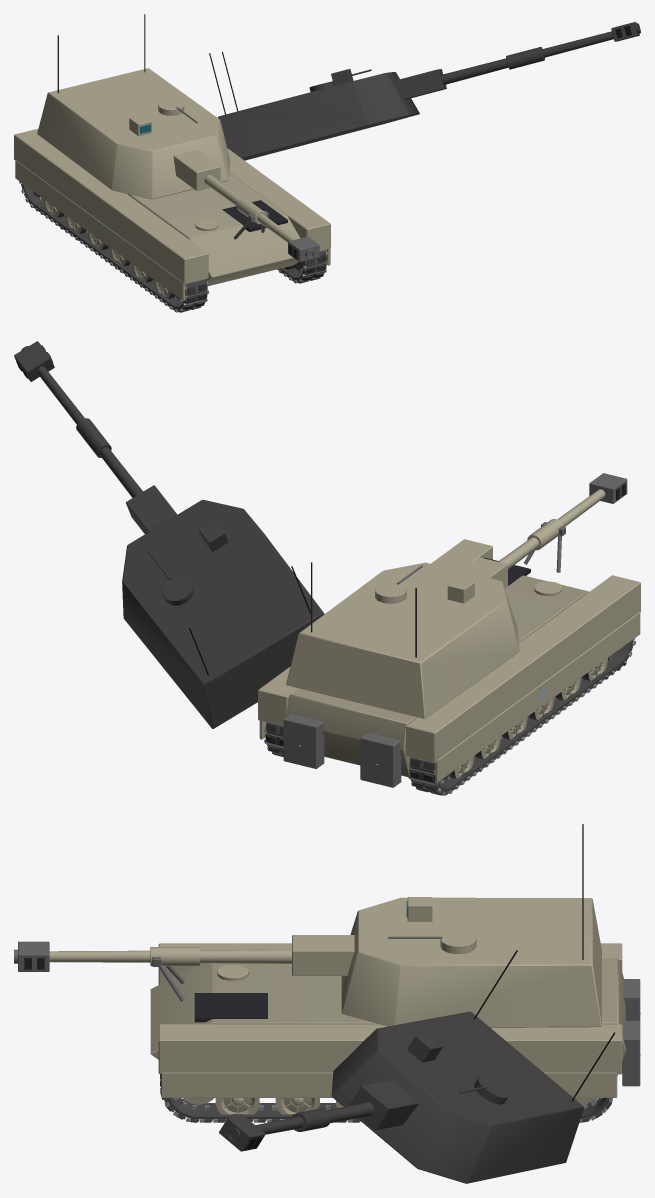
The model's file is artillery__raad_2.glb.
3 views of the same model, one above another, from view 1: azimuth 30°, elevation 25°; view 2: azimuth 150°, elevation 25°; view 3: azimuth 270°, elevation 25° (orthographic). The views are drawn at different scales.
Parts seen in each view (by area): view 1: Hull_Mesh, Turret_Mesh, Wreck, Gun_Mesh, Track_L_Mesh, Track_R_Mesh; view 2: Wreck, Hull_Mesh, Turret_Mesh, Track_L_Mesh, Gun_Mesh; view 3: Hull_Mesh, Wreck, Turret_Mesh, Gun_Mesh, Track_R_Mesh, Wheel_R5_Mesh, Wheel_R4_Mesh.
Boxes of the visible parts, x1=… form: Hull_Mesh: x1=14, y1=129, x2=330, y2=300; Turret_Mesh: x1=37, y1=14, x2=230, y2=199; Wreck: x1=20, y1=22, x2=640, y2=312; Gun_Mesh: x1=173, y1=150, x2=319, y2=262; Track_L_Mesh: x1=19, y1=181, x2=208, y2=312; Track_R_Mesh: x1=277, y1=250, x2=328, y2=283; Wreck: x1=14, y1=341, x2=635, y2=795; Hull_Mesh: x1=258, y1=522, x2=640, y2=787; Turret_Mesh: x1=286, y1=562, x2=519, y2=718; Track_L_Mesh: x1=408, y1=638, x2=635, y2=795; Gun_Mesh: x1=460, y1=473, x2=627, y2=587; Hull_Mesh: x1=150, y1=943, x2=640, y2=1097; Wreck: x1=160, y1=950, x2=615, y2=1183; Turret_Mesh: x1=341, y1=824, x2=601, y2=1027; Gun_Mesh: x1=14, y1=935, x2=354, y2=975; Track_R_Mesh: x1=160, y1=1074, x2=612, y2=1122; Wheel_R5_Mesh: x1=215, y1=1098, x2=259, y2=1114; Wheel_R4_Mesh: x1=275, y1=1098, x2=319, y2=1114.
Size of what is drawn, in the model's own units: 11.92 by 3.88 by 9.81.
